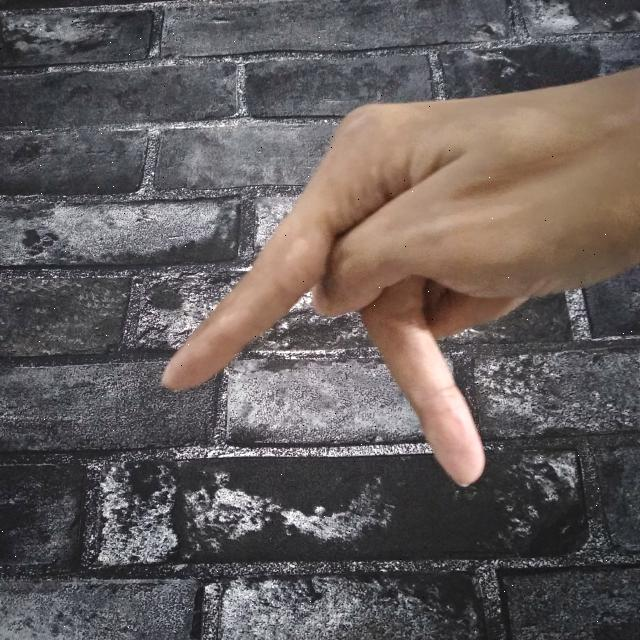P: (153, 58, 640, 496)
